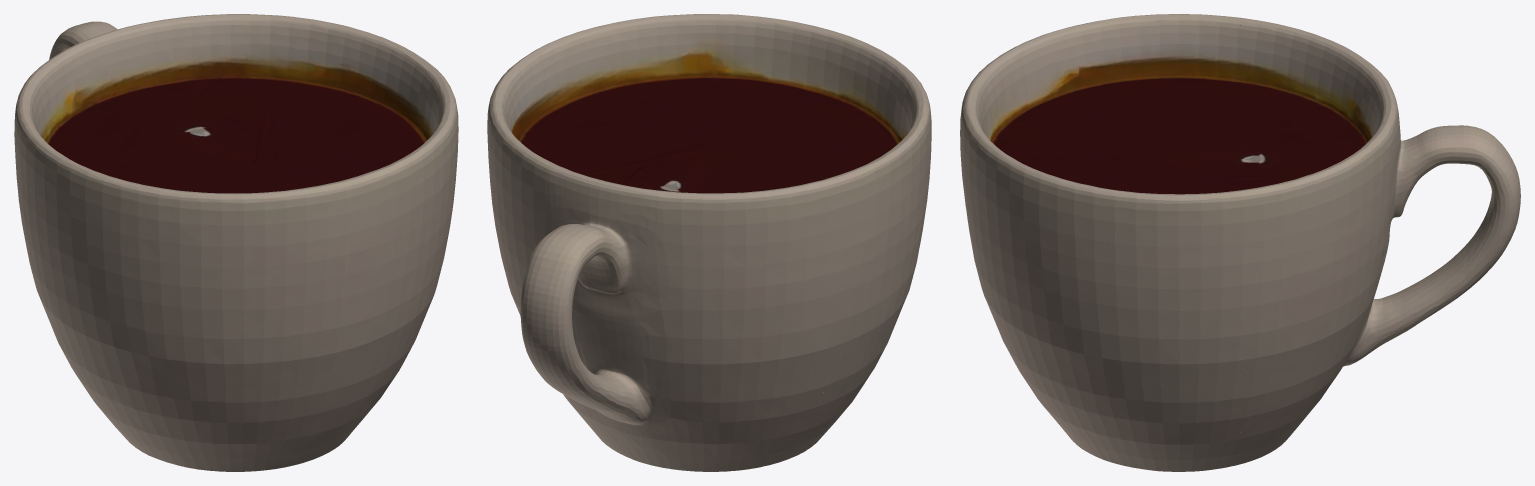
Rendered from cup.compressed.glb.
The picture shows the model from 3 angles, left to right: view 1: azimuth 30°, elevation 25°; view 2: azimuth 150°, elevation 25°; view 3: azimuth 270°, elevation 25°; orthographic projection.
Parts seen in each view (by area): view 1: tripo_node_ce448465-0bd3-4aa1-94af-f182661a37b1.009; view 2: tripo_node_ce448465-0bd3-4aa1-94af-f182661a37b1.009; view 3: tripo_node_ce448465-0bd3-4aa1-94af-f182661a37b1.009.
Part boxes in pixels (x1,y1,x2,y2): tripo_node_ce448465-0bd3-4aa1-94af-f182661a37b1.009: [14, 14, 458, 471]; tripo_node_ce448465-0bd3-4aa1-94af-f182661a37b1.009: [487, 14, 931, 471]; tripo_node_ce448465-0bd3-4aa1-94af-f182661a37b1.009: [960, 14, 1520, 471].
Size of the model in its own units: 0.638 by 0.5062 by 0.8083.
Materials: 1 (1 with a texture image).
